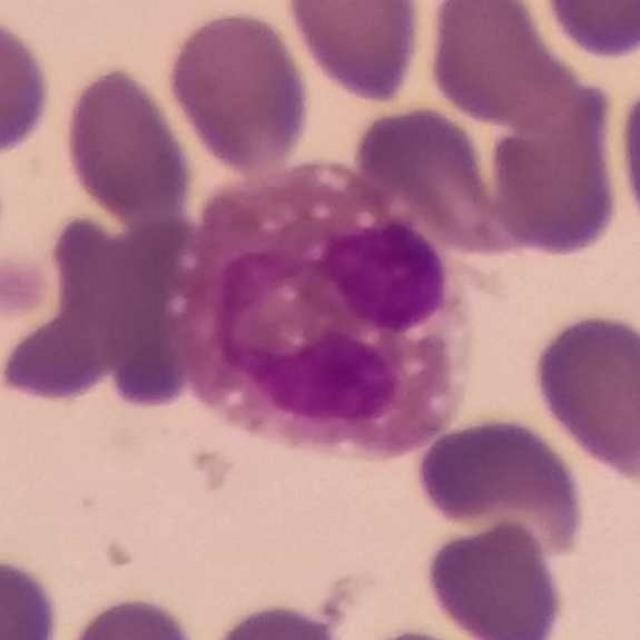Eosinophil: (165, 162, 472, 463)
Platelets: (0, 257, 52, 318)
RBC: (348, 99, 552, 258), (0, 229, 154, 413), (410, 411, 590, 562), (484, 75, 624, 262), (162, 5, 315, 176), (58, 61, 197, 222), (422, 0, 591, 131), (527, 305, 640, 486), (421, 515, 568, 640), (282, 0, 428, 106), (0, 8, 56, 165), (57, 591, 205, 640), (534, 0, 639, 63), (198, 599, 356, 640), (612, 56, 640, 258), (0, 553, 63, 640)
